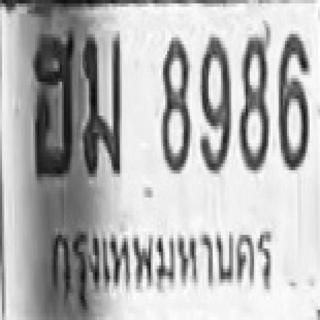A33: (82, 31, 121, 174)
A44: (31, 31, 74, 174)
N06: (277, 32, 308, 169)
N08: (159, 34, 190, 170), (238, 34, 268, 170)
N09: (198, 34, 229, 170)
P04: (45, 213, 274, 309)
